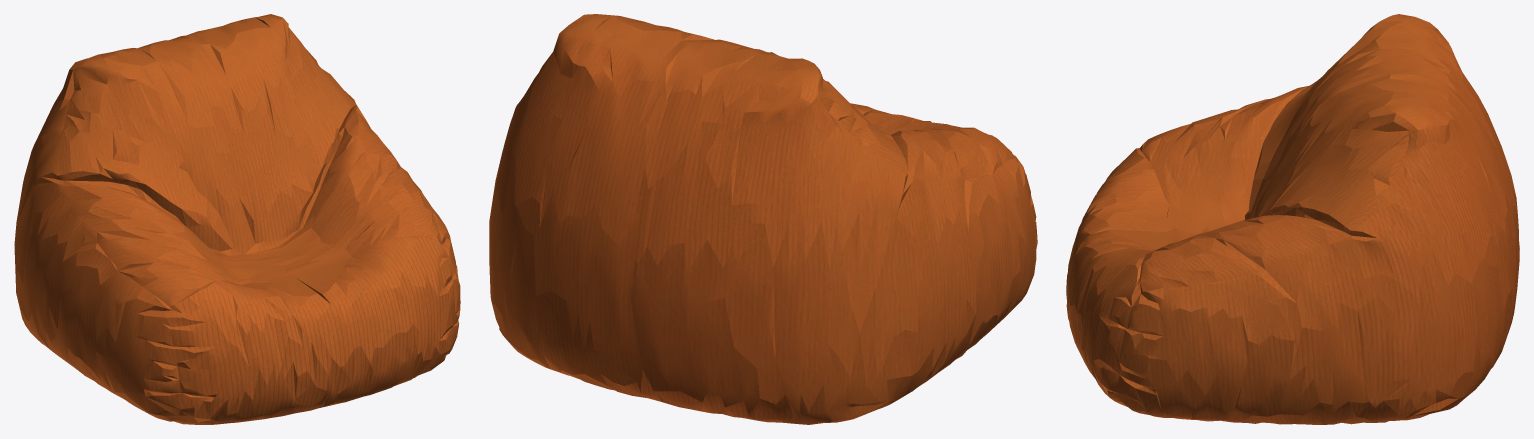
File: beanbag.glb
3 renders of one model, left to right at view 1: azimuth 30°, elevation 25°; view 2: azimuth 150°, elevation 25°; view 3: azimuth 270°, elevation 25°, orthographic. The views are drawn at different scales.
Parts seen in each view (by area): view 1: Mesh_0; view 2: Mesh_0; view 3: Mesh_0.
Boxes of the visible parts, x1,y1,x2,y2 form: Mesh_0: (14, 14, 460, 424); Mesh_0: (489, 14, 1037, 424); Mesh_0: (1066, 14, 1519, 424).
Bounding box in the file's own units: 0.9623 × 0.7 × 0.9929.
Materials: 1 (1 with a texture image).
